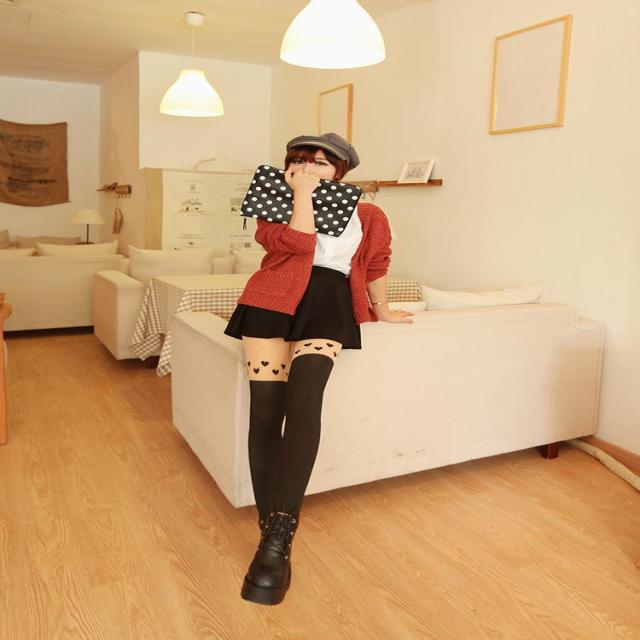long sleeve outwear: (238, 244, 314, 315), (257, 203, 312, 244)
skirt: (226, 265, 362, 350)
trousers: (241, 267, 346, 515)
